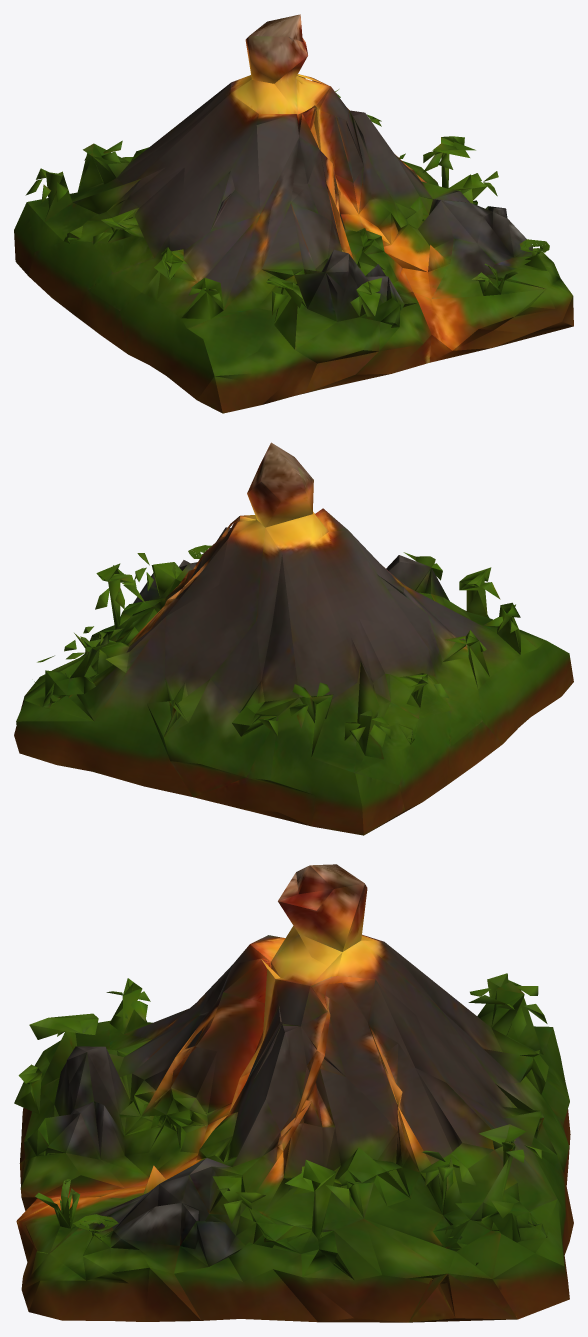
Rendered from volcanoBackdrop.glb.
3 views of the same model, one above another, from view 1: azimuth 30°, elevation 25°; view 2: azimuth 150°, elevation 25°; view 3: azimuth 270°, elevation 25° (orthographic). The views are drawn at different scales.
Parts seen in each view (by area): view 1: model; view 2: model; view 3: model.
Part boxes in pixels (x1,y1,x2,y2): model: [14, 14, 573, 413]; model: [14, 442, 573, 835]; model: [14, 864, 573, 1322].
Size of the model in its own units: 1.87 by 1.27 by 1.86.
Materials: 1 (1 with a texture image).
